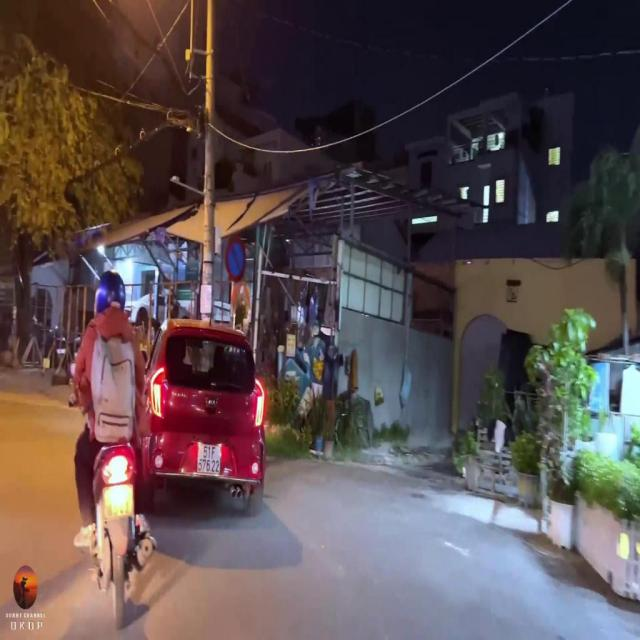cam_do_xe: (225, 238, 246, 283)
